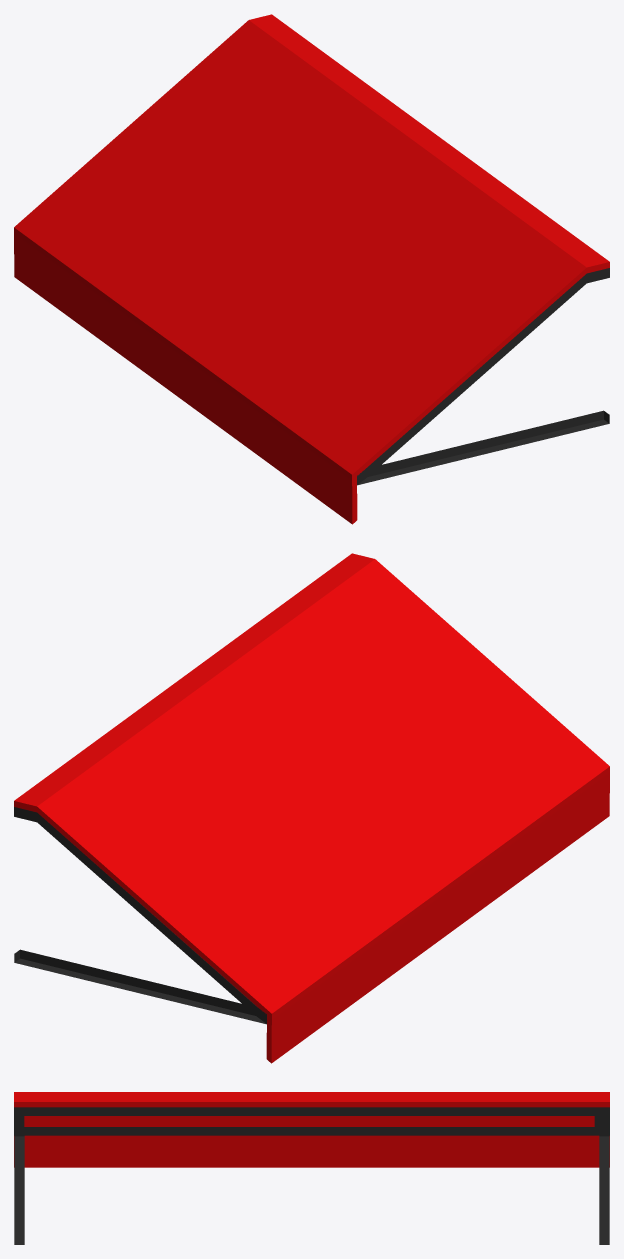
File: polu_crisha.fbx
3 views of the same model, one above another, from view 1: azimuth 30°, elevation 25°; view 2: azimuth 150°, elevation 25°; view 3: azimuth 270°, elevation 25° (orthographic). The views are drawn at different scales.
Visible parts, largest first — view 1: Cube; view 2: Cube; view 3: Cube.
Boxes of the visible parts, bbox=[...] form: Cube: bbox=[14, 14, 609, 524]; Cube: bbox=[14, 553, 609, 1063]; Cube: bbox=[14, 1092, 609, 1244].
Bounding box in the file's own units: 95.2 × 70.52 × 216.
